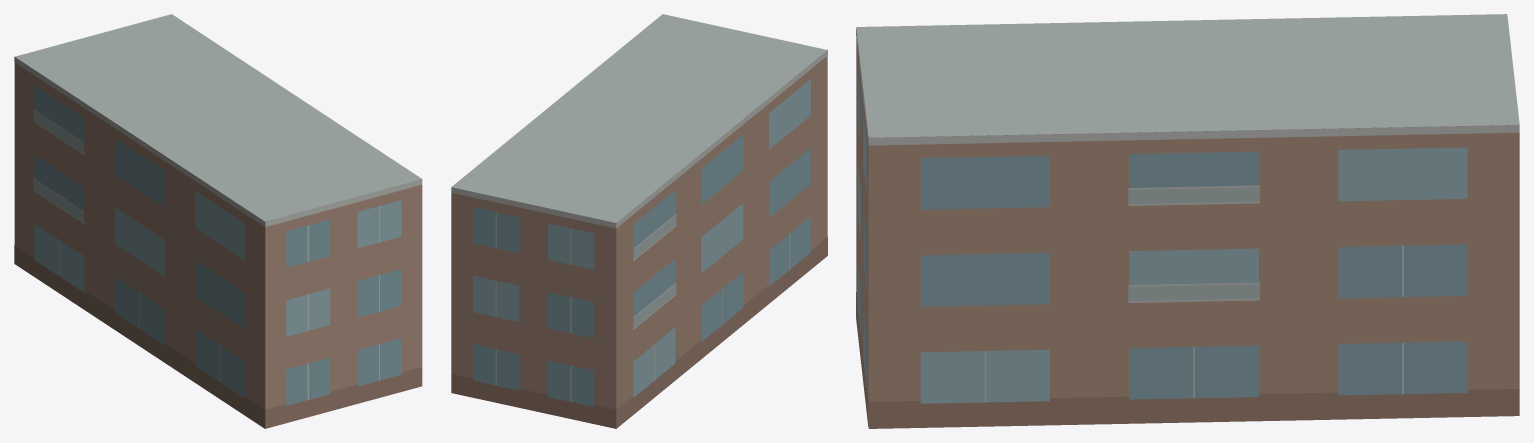
Rendered from survey-upis-32473242.glb.
The picture shows the model from 3 angles, left to right: view 1: azimuth 30°, elevation 25°; view 2: azimuth 150°, elevation 25°; view 3: azimuth 270°, elevation 25°; orthographic projection. The views are drawn at different scales.
Visible parts, largest first — view 1: survey-upis-32473242.tmp; view 2: survey-upis-32473242.tmp; view 3: survey-upis-32473242.tmp.
Boxes of the visible parts, <box> form: survey-upis-32473242.tmp: <box>14,14,422,428</box>; survey-upis-32473242.tmp: <box>451,14,827,428</box>; survey-upis-32473242.tmp: <box>856,14,1519,428</box>.
Size of the model in its own units: 8.35 by 9.15 by 18.92.
